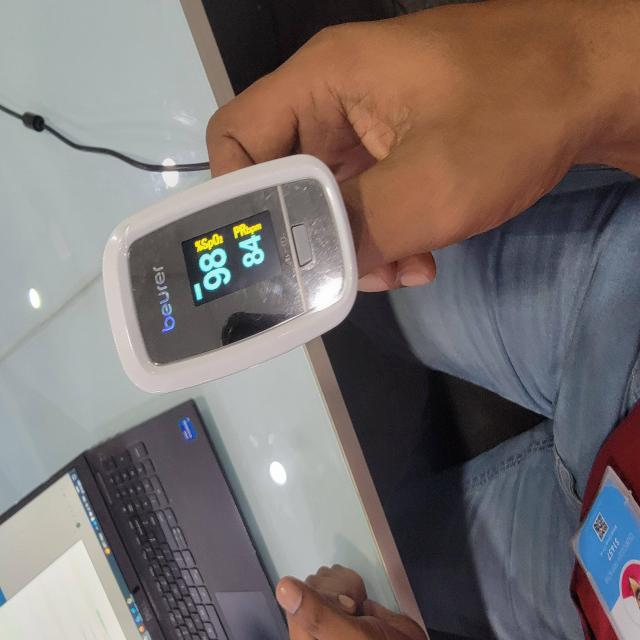spo2: (100, 156, 359, 395)
